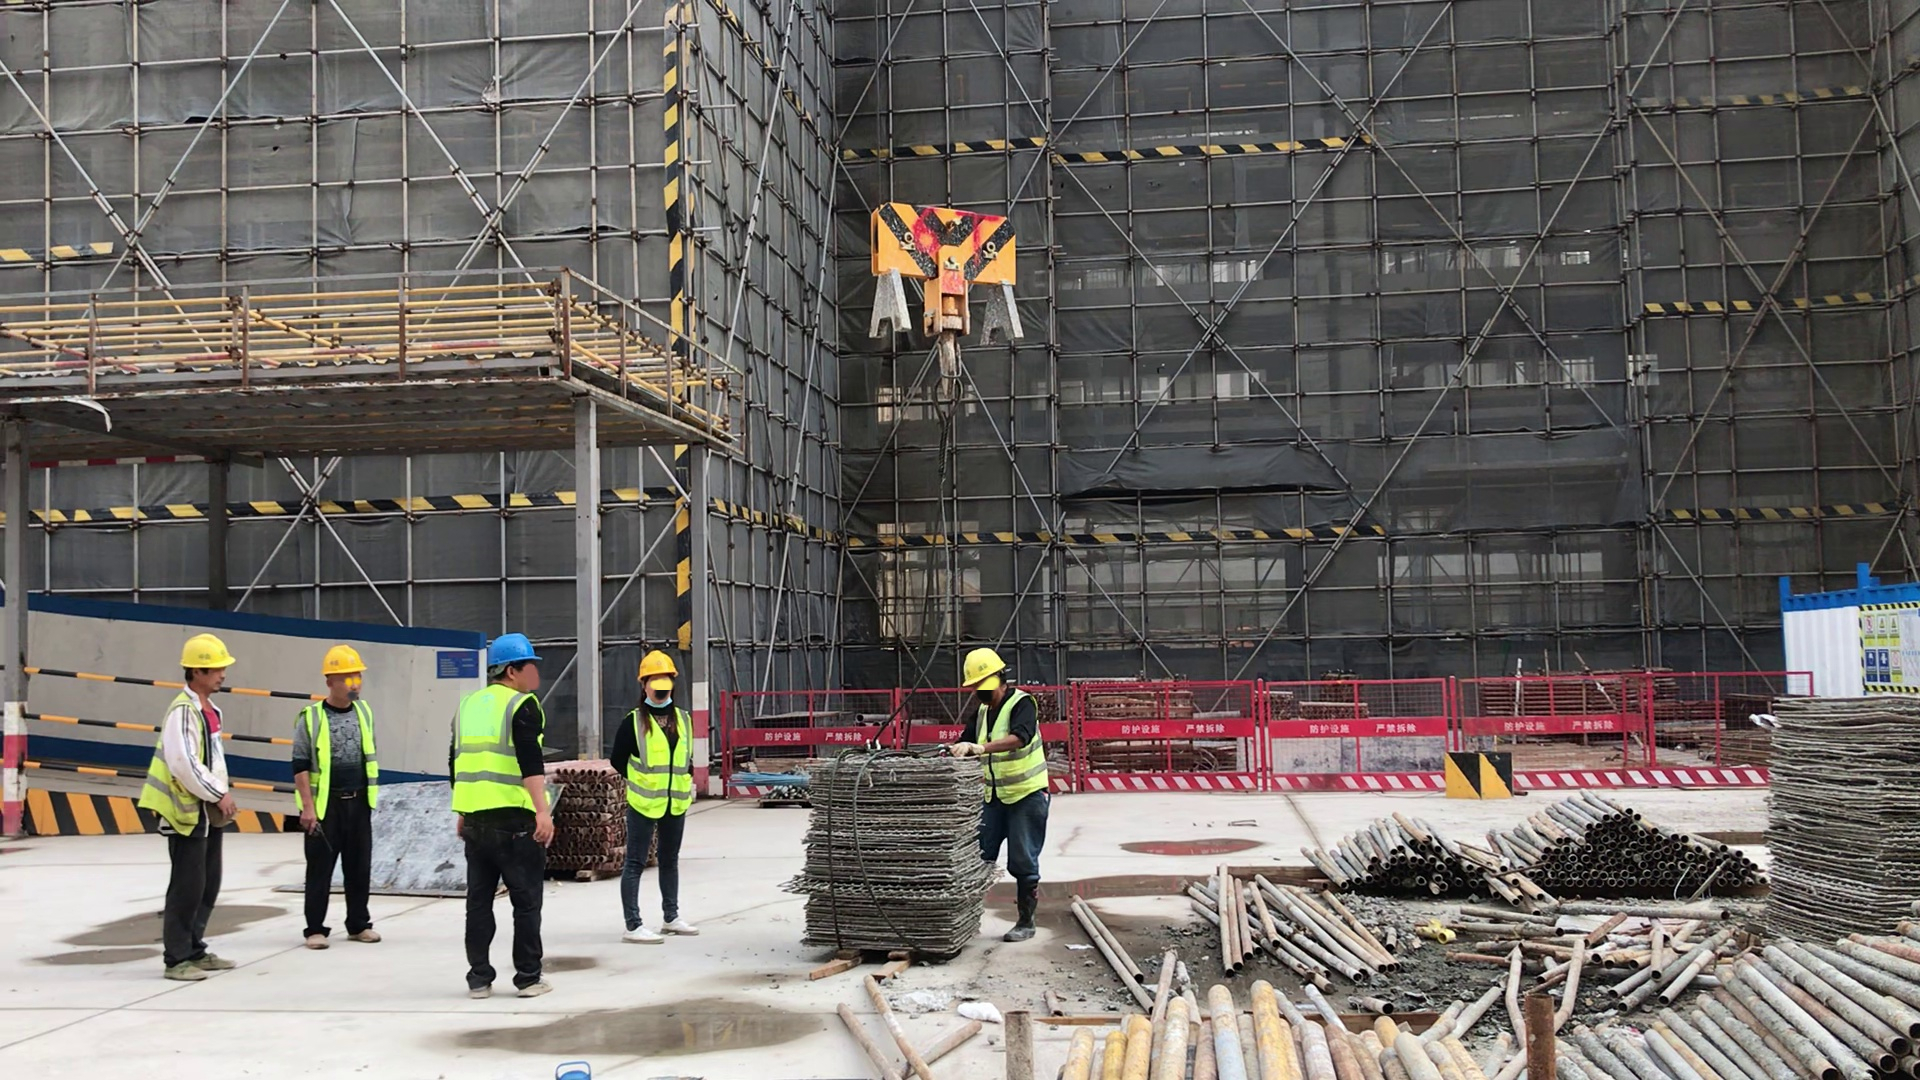helmet: (173, 634, 239, 672), (480, 634, 542, 667), (320, 640, 369, 678), (634, 647, 679, 685), (961, 647, 1006, 685)
person: (442, 627, 568, 1002), (135, 632, 245, 981), (288, 642, 387, 951), (609, 642, 704, 944), (956, 639, 1041, 948)
vest: (137, 691, 234, 847), (446, 680, 544, 821), (296, 696, 382, 834), (613, 706, 696, 820), (971, 691, 1047, 796)
